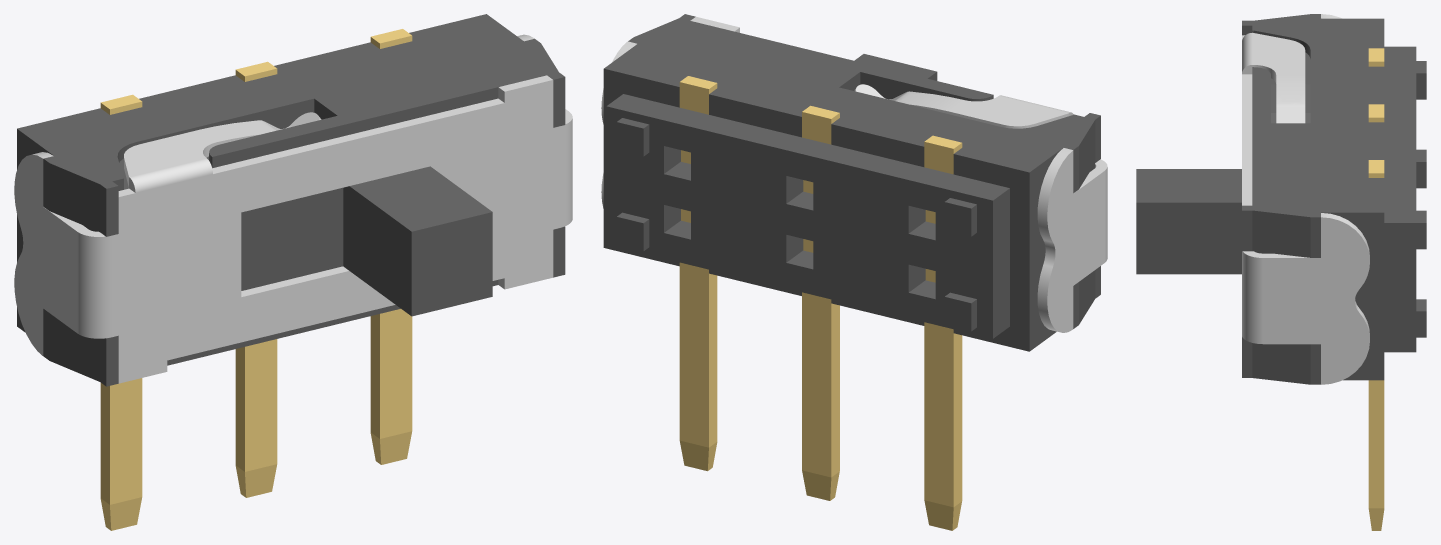
Rendered from slideswitch.glb.
3 views of the same model, side by side, from view 1: azimuth 30°, elevation 25°; view 2: azimuth 150°, elevation 25°; view 3: azimuth 270°, elevation 25° (orthographic). The views are drawn at different scales.
Visible parts, largest first — view 1: NAUO2, NAUO1, NAUO3; view 2: NAUO1, NAUO3, NAUO2; view 3: NAUO1, NAUO2, NAUO3.
Boxes of the visible parts, x1,y1,x2,y2 form: NAUO2: [14, 34, 572, 383]; NAUO1: [17, 14, 565, 386]; NAUO3: [100, 29, 412, 530]; NAUO1: [603, 14, 1100, 351]; NAUO3: [679, 76, 962, 530]; NAUO2: [601, 16, 1107, 332]; NAUO1: [1136, 14, 1426, 384]; NAUO2: [1242, 14, 1369, 384]; NAUO3: [1368, 48, 1384, 530].
Bounding box in the file's own units: 0.00911 × 0.0075 × 0.0055.
